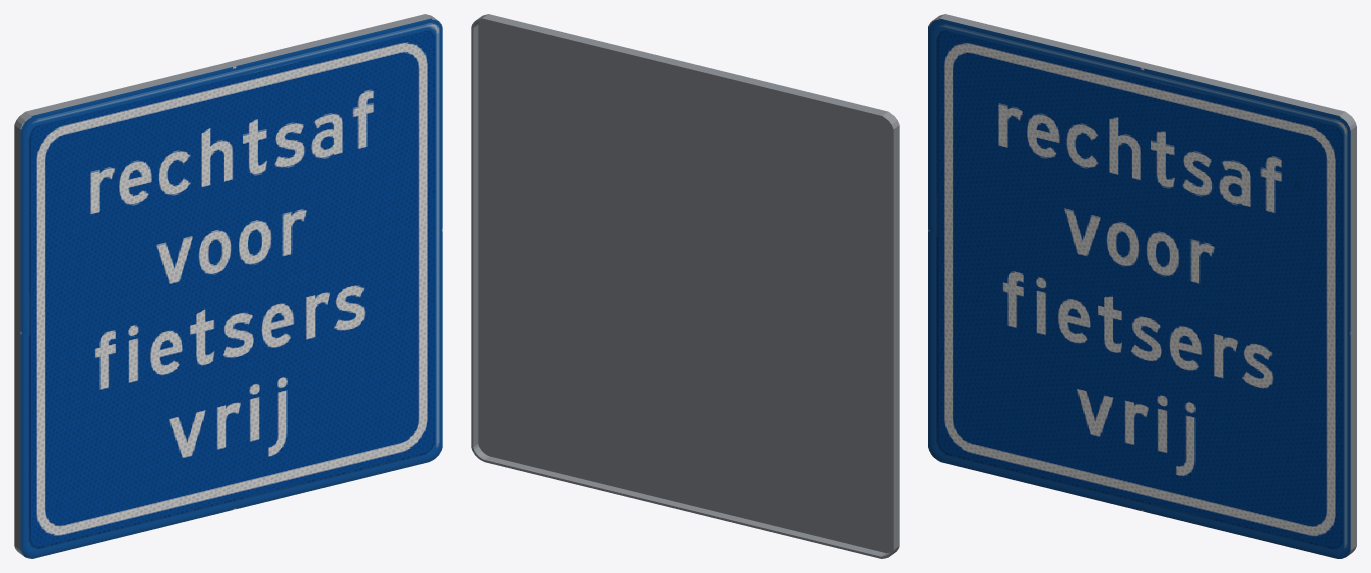
3 renders of one model, left to right at view 1: azimuth 30°, elevation 25°; view 2: azimuth 150°, elevation 25°; view 3: azimuth 330°, elevation 25°, orthographic.
Visible parts, largest first — view 1: cat_814d8695e4d3b66e; view 2: cat_814d8695e4d3b66e; view 3: cat_814d8695e4d3b66e.
Boxes of the visible parts, x1,y1,x2,y2 form: cat_814d8695e4d3b66e: (14,14,442,558); cat_814d8695e4d3b66e: (471,14,899,558); cat_814d8695e4d3b66e: (928,14,1356,558).
Bounding box in the file's own units: 0.6 × 0.015 × 0.6014.
Materials: 2 (1 with a texture image).
